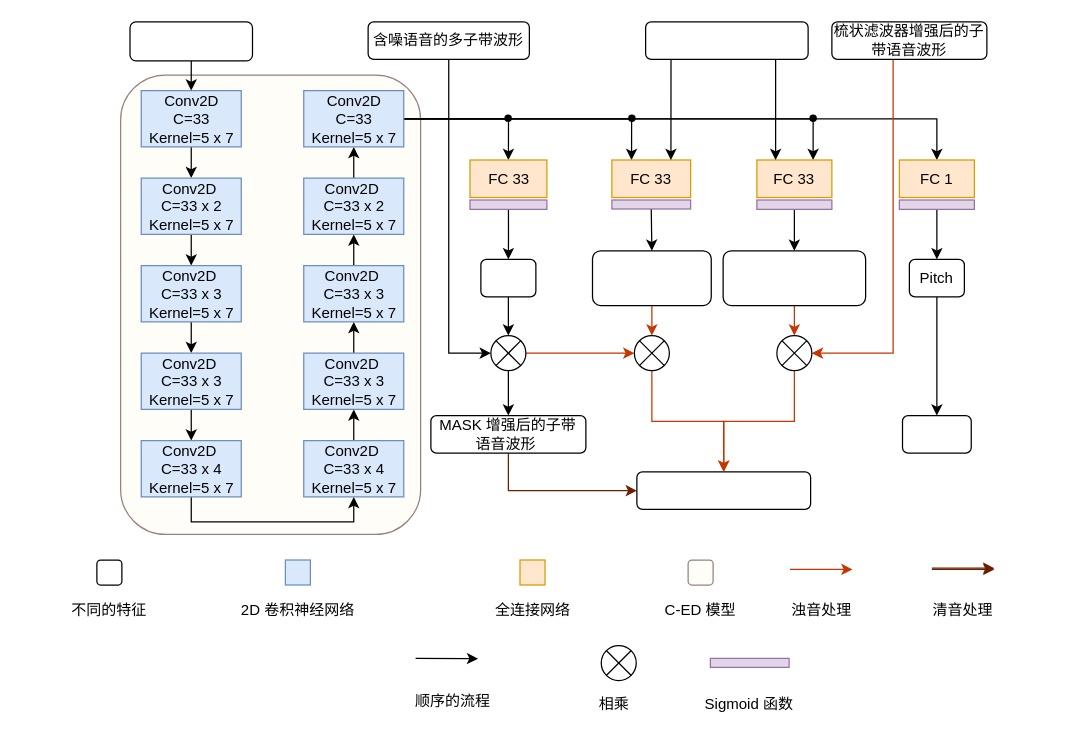
Some shapes in this 1071 by 743 pixel diagram are drawn without their labels. The shapes that lost their labels are listed below. From the top down, each one's box as (x1, y1, x2, y2) in pixels, then its label:
(129, 21, 252, 61): Gammatone 特征
(644, 21, 808, 59): 使用MASK 增强后的 子带语音波形
(480, 258, 536, 297): MASK
(591, 250, 711, 306): 增强后的子带语音的权重
(722, 250, 866, 306): 梳状滤波器增强后的子带语音权重
(901, 414, 971, 453): 清音 / 浊音
(636, 471, 811, 509): 增强后的音频
